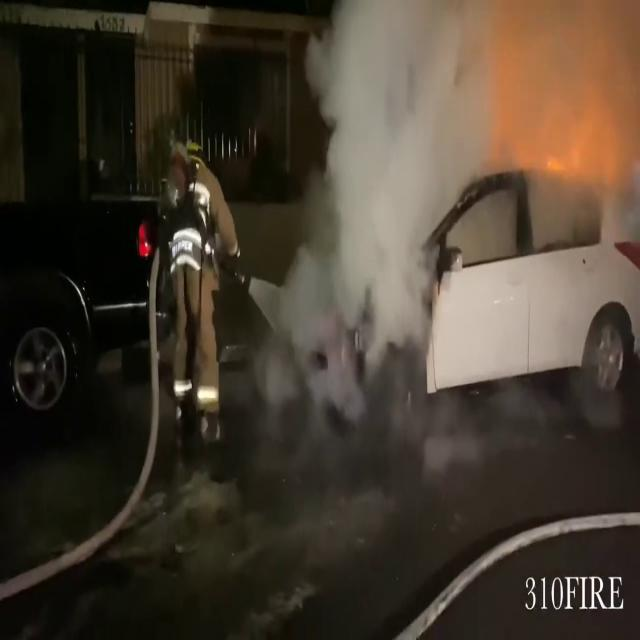Smoke: (264, 1, 640, 387)
